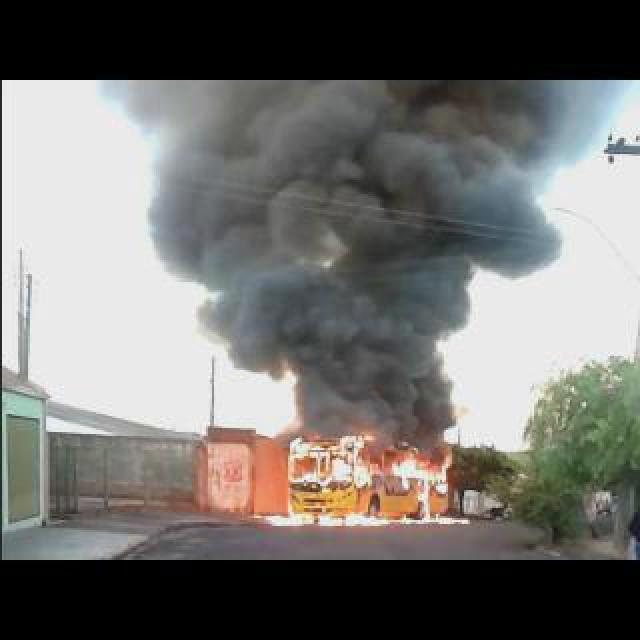Fire: (279, 429, 459, 531)
Smoke: (139, 80, 593, 415)
